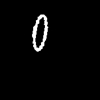chain: (32, 15, 47, 50)
